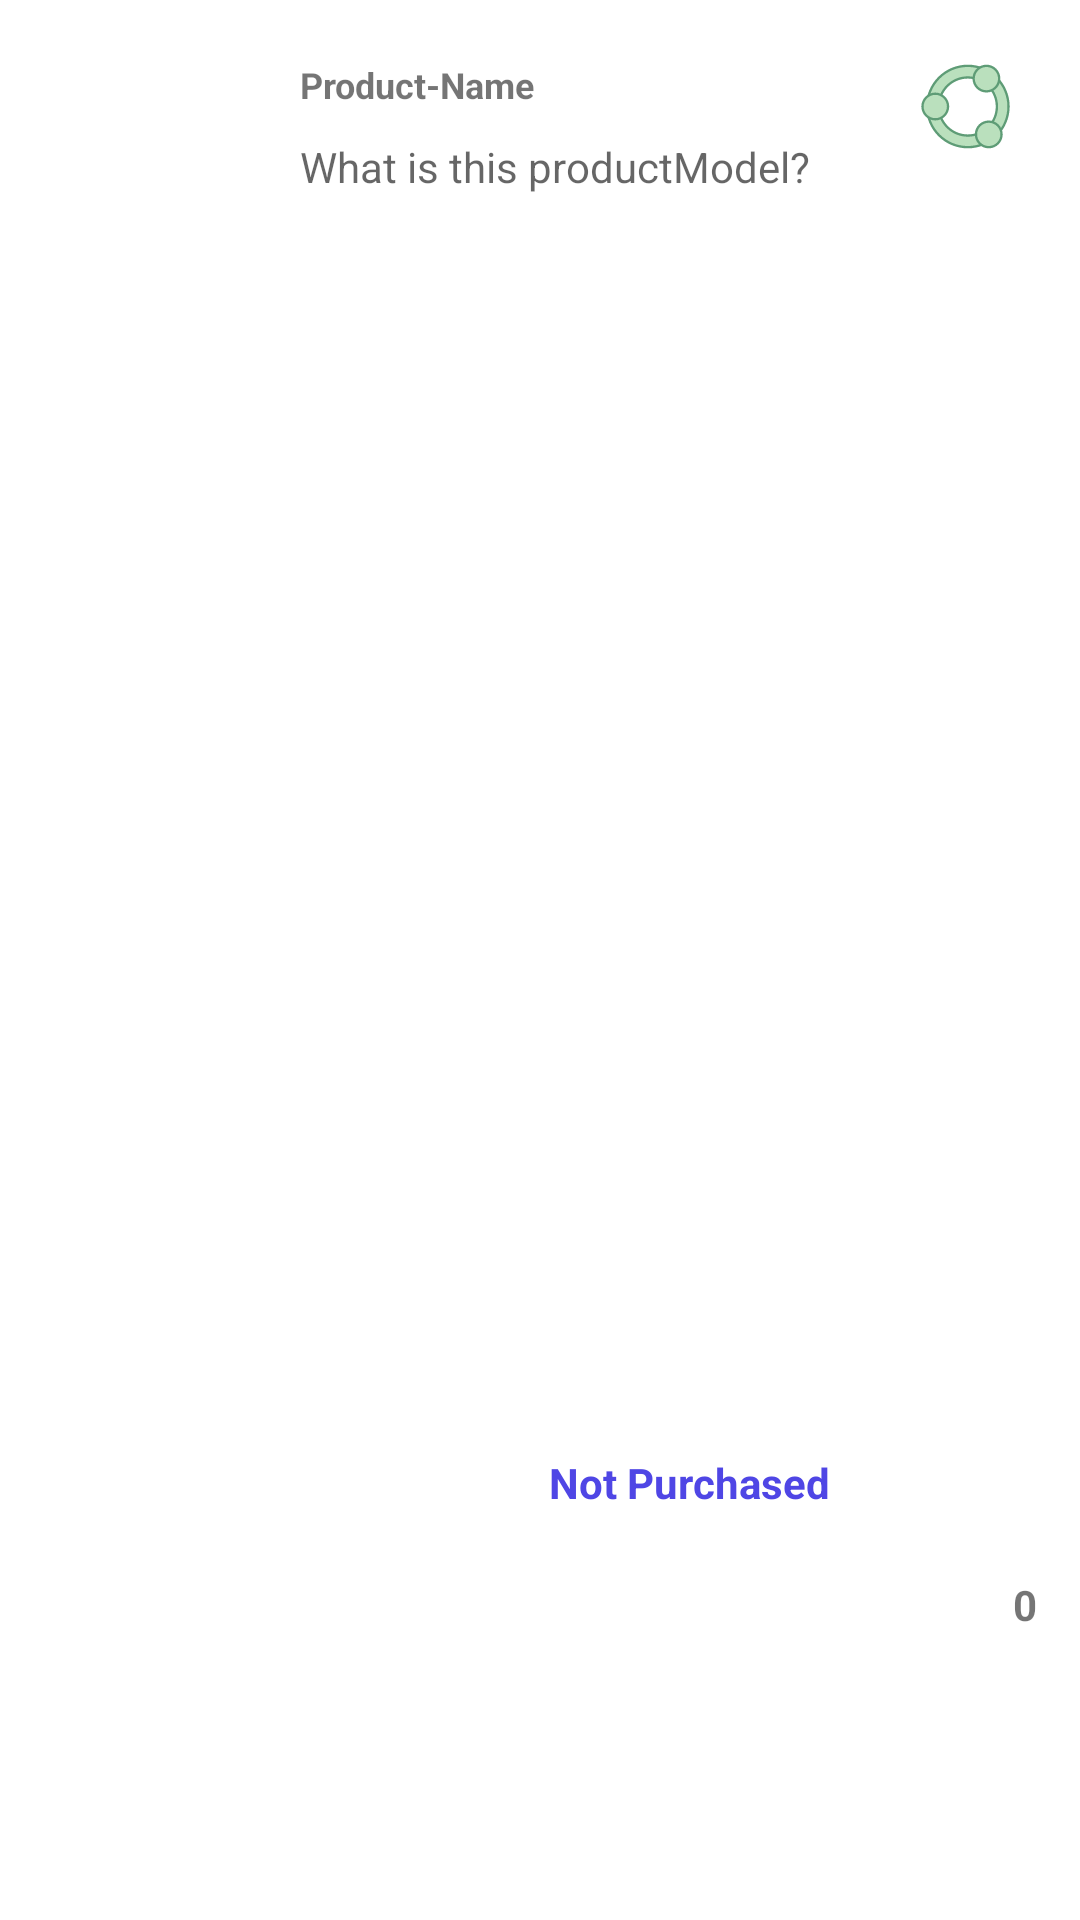

Screen size 1080*1920. Icon name, then its center in pixels as [x,y]:
Share: [965,106]
